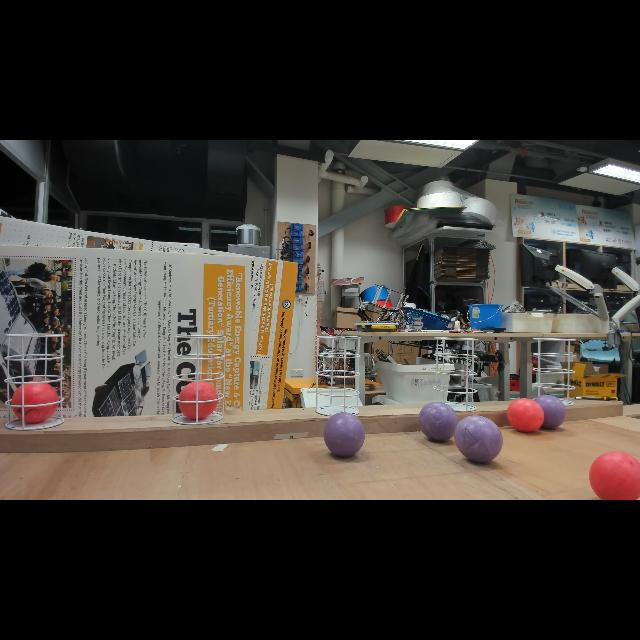P: (454, 415, 504, 463), (323, 412, 365, 458), (418, 402, 458, 442), (530, 394, 566, 430)
R: (588, 450, 640, 500), (11, 380, 59, 424), (177, 381, 219, 421), (506, 398, 544, 434)
S: (4, 332, 66, 432), (172, 334, 226, 426), (315, 336, 361, 416), (432, 337, 478, 413), (532, 338, 576, 407)
